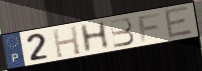2: (26, 32, 53, 64)
B: (108, 17, 136, 49)
E: (163, 5, 195, 41)
F: (137, 11, 163, 44)
H: (78, 19, 112, 54), (51, 25, 83, 59)
